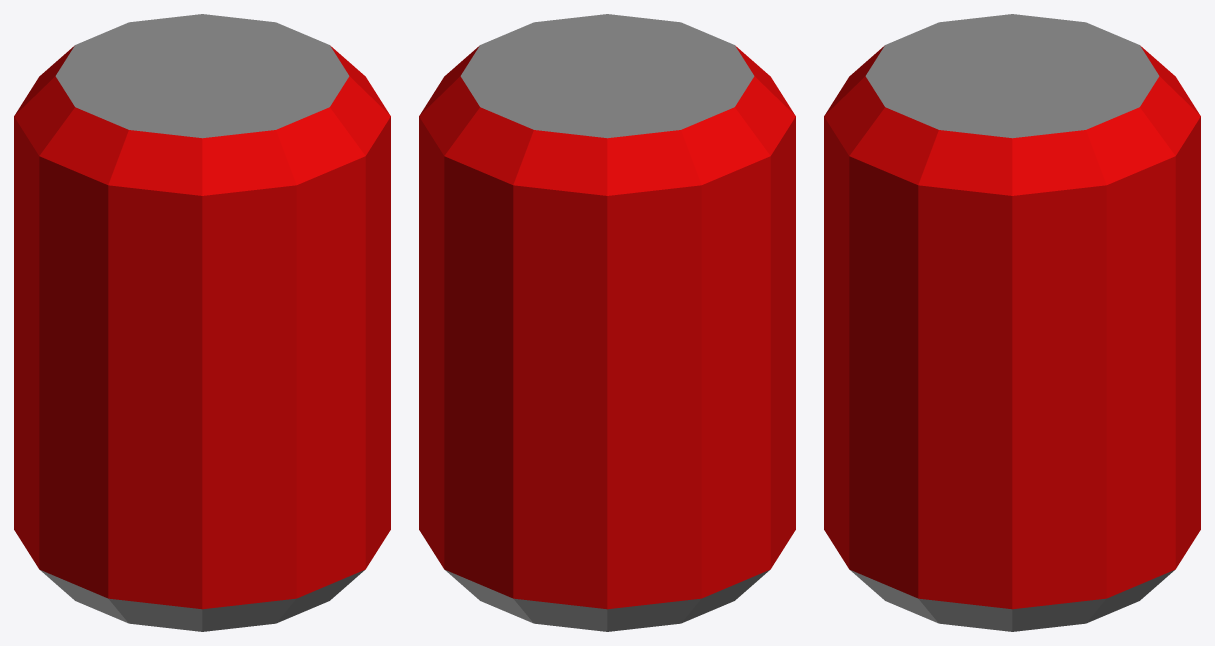
Rendered from cola sisesi.fbx.
3 views of the same model, side by side, from view 1: azimuth 30°, elevation 25°; view 2: azimuth 150°, elevation 25°; view 3: azimuth 270°, elevation 25° (orthographic).
Visible parts, largest first — view 1: metal__sise; view 2: metal__sise; view 3: metal__sise.
Boxes of the visible parts, x1,y1,x2,y2 form: metal__sise: (14,14,390,631); metal__sise: (419,14,795,631); metal__sise: (824,14,1200,631).
Bounding box in the file's own units: 93.4 × 135 × 93.4.
